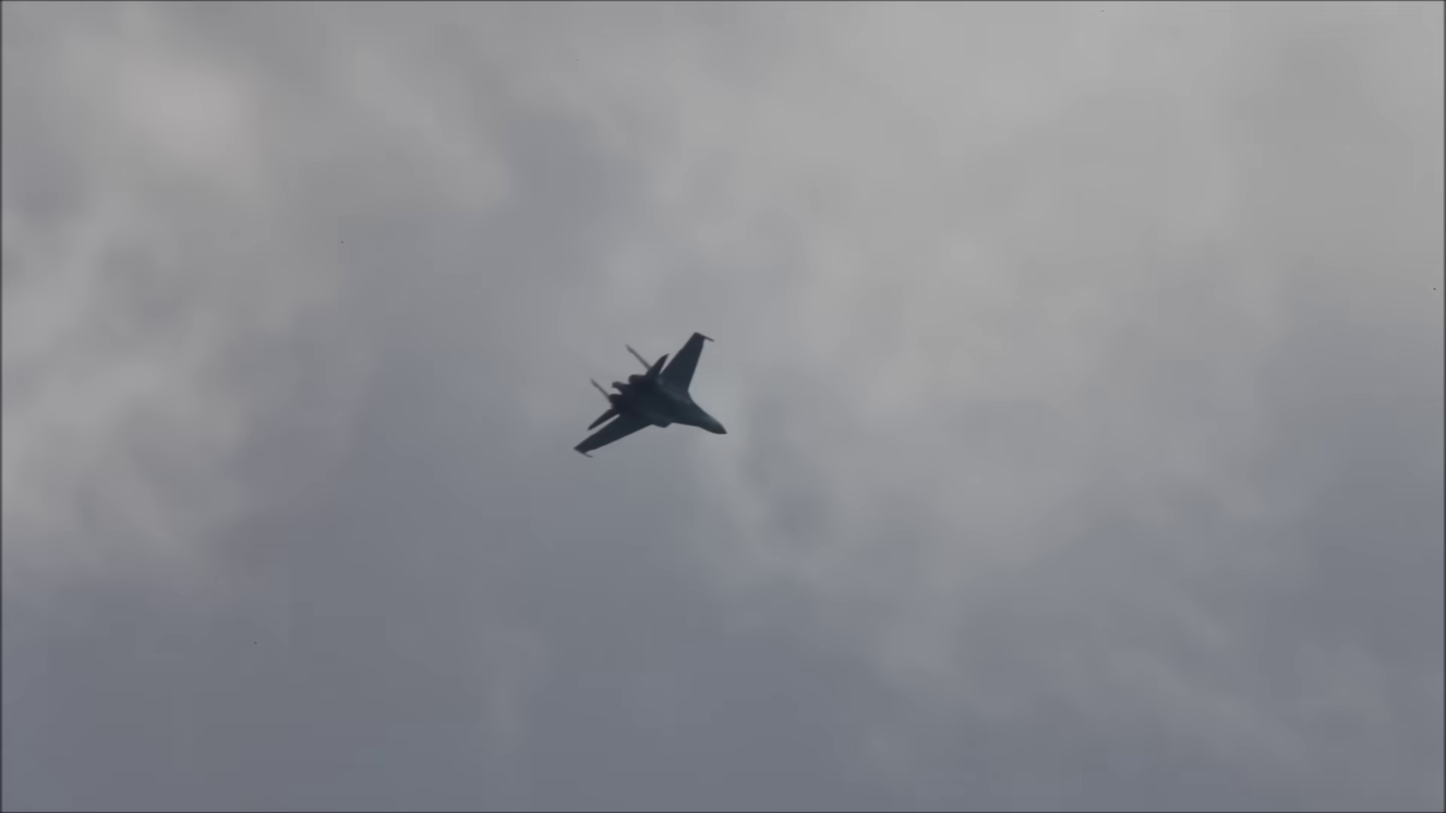Su35: (561, 317, 733, 466)
